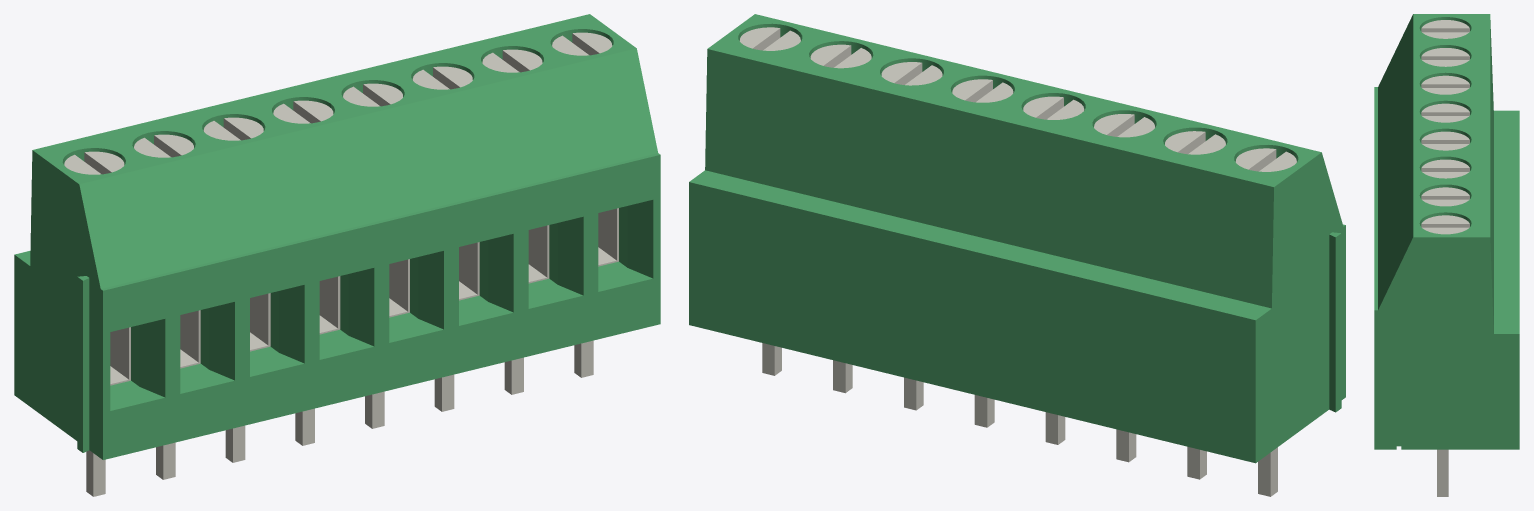
Rendered from kc-terminalblock_phoenix_mkds-3-8-5.08_1x08_p5.08mm_horizontal.glb.
3 renders of one model, left to right at view 1: azimuth 30°, elevation 25°; view 2: azimuth 150°, elevation 25°; view 3: azimuth 270°, elevation 25°, orthographic. The views are drawn at different scales.
Visible parts, largest first — view 1: 0.08333333333333333_0.4166666666666667_0.16666666666666666_0, 0.6666666666666666_0.6666666666666666_0.5833333333333334_0.8; view 2: 0.08333333333333333_0.4166666666666667_0.16666666666666666_0, 0.6666666666666666_0.6666666666666666_0.5833333333333334_0.8; view 3: 0.08333333333333333_0.4166666666666667_0.16666666666666666_0, 0.6666666666666666_0.6666666666666666_0.5833333333333334_0.8.
Part boxes in pixels (box(x1,y1,x2,y2)): 0.08333333333333333_0.4166666666666667_0.16666666666666666_0: box(14, 14, 660, 459); 0.6666666666666666_0.6666666666666666_0.5833333333333334_0.8: box(64, 32, 618, 496); 0.08333333333333333_0.4166666666666667_0.16666666666666666_0: box(689, 14, 1345, 463); 0.6666666666666666_0.6666666666666666_0.5833333333333334_0.8: box(739, 27, 1296, 496); 0.08333333333333333_0.4166666666666667_0.16666666666666666_0: box(1374, 14, 1519, 449); 0.6666666666666666_0.6666666666666666_0.5833333333333334_0.8: box(1421, 20, 1469, 496).
Bounding box in the file's own units: 4.12 × 2.3 × 1.12.
